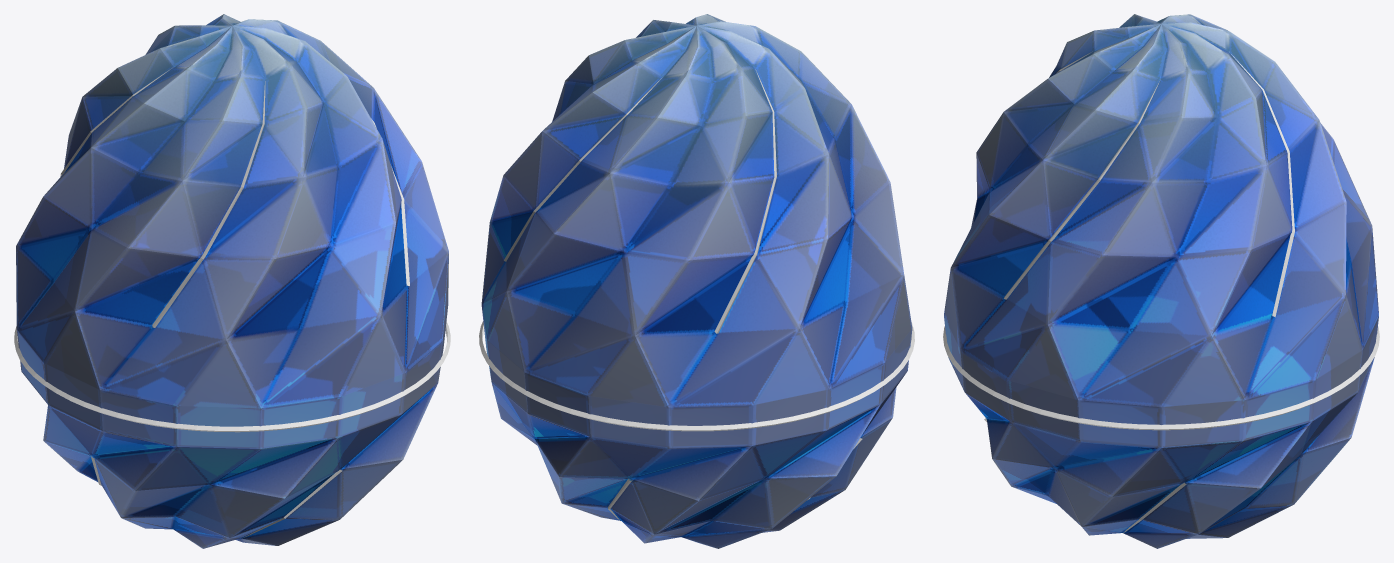
Rendered from BeginnerQiEgg.fbx.
The picture shows the model from 3 angles, left to right: view 1: azimuth 30°, elevation 25°; view 2: azimuth 150°, elevation 25°; view 3: azimuth 270°, elevation 25°; orthographic projection.
Visible parts, largest first — view 1: BeginnerQiEgg_Body, BeginnerQiEgg_Glow_3fc6ff; view 2: BeginnerQiEgg_Body, BeginnerQiEgg_Glow_3fc6ff; view 3: BeginnerQiEgg_Body, BeginnerQiEgg_Glow_3fc6ff.
Part boxes in pixels (left/top/right/bottom): BeginnerQiEgg_Body: left=16, top=14, right=448, bottom=548; BeginnerQiEgg_Glow_3fc6ff: left=14, top=68, right=450, bottom=538; BeginnerQiEgg_Body: left=481, top=14, right=912, bottom=548; BeginnerQiEgg_Glow_3fc6ff: left=479, top=69, right=914, bottom=520; BeginnerQiEgg_Body: left=944, top=14, right=1378, bottom=548; BeginnerQiEgg_Glow_3fc6ff: left=943, top=51, right=1379, bottom=532.
Size of the model in its own units: 2.16 by 2.73 by 2.16.
2 materials, 1 textured.
